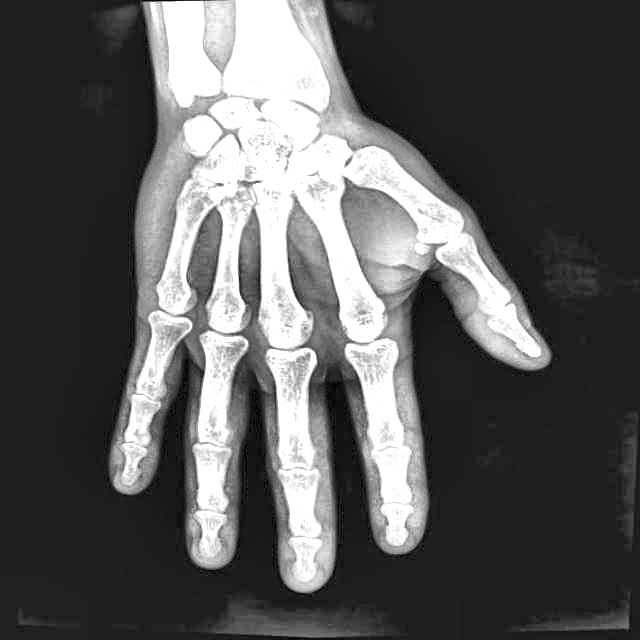Healthy: (79, 48, 492, 524)
